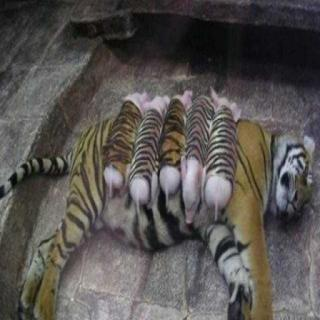Tiger: (0, 99, 316, 320)
